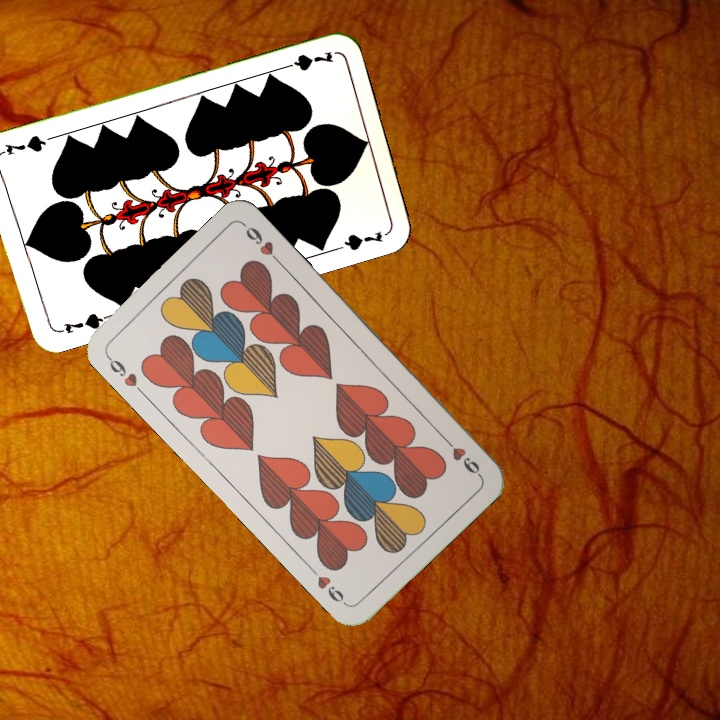G7: (53, 309, 111, 337), (277, 47, 336, 74)
H9: (102, 351, 148, 398), (438, 432, 483, 479)
